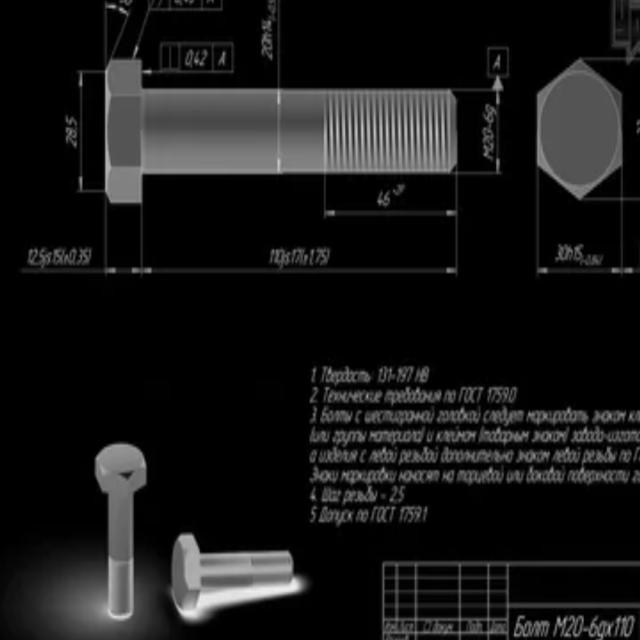marking_line: (134, 209, 461, 282), (15, 205, 113, 284), (537, 203, 625, 276), (323, 175, 459, 219), (132, 6, 224, 59), (459, 74, 506, 177), (76, 70, 104, 195), (143, 39, 233, 77), (100, 4, 131, 58), (535, 175, 545, 274), (273, 91, 282, 171), (486, 101, 497, 114), (481, 136, 494, 147), (383, 189, 391, 206), (377, 190, 384, 208), (482, 126, 493, 136), (484, 113, 493, 124)
numeric: (261, 20, 273, 39), (54, 247, 65, 267), (216, 50, 227, 68), (67, 248, 77, 266), (260, 49, 275, 61), (184, 48, 193, 66), (83, 247, 91, 267), (65, 138, 78, 150), (262, 38, 274, 51), (31, 246, 38, 268), (562, 243, 570, 261), (574, 245, 583, 261), (39, 249, 46, 269), (555, 244, 562, 262), (26, 248, 33, 266), (65, 117, 77, 127), (78, 246, 84, 265), (45, 251, 53, 265), (200, 50, 207, 66), (66, 129, 77, 139), (194, 48, 200, 66), (568, 246, 573, 261)
special_symbol: (393, 181, 405, 198), (492, 54, 501, 69)
